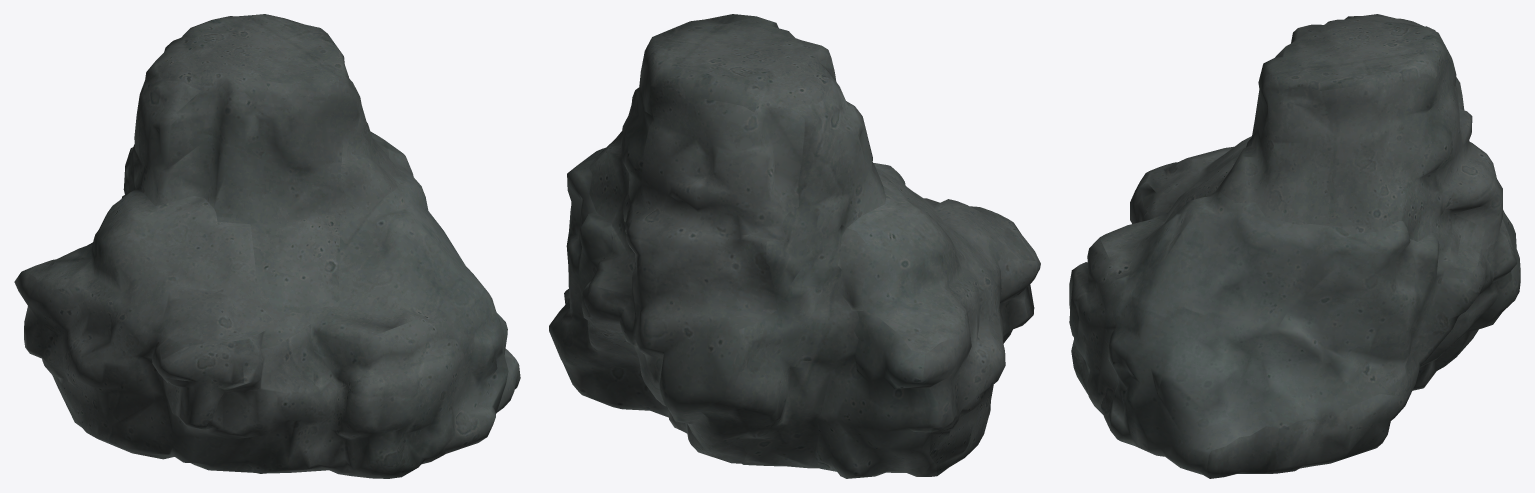
File: Cliff_Glitter02.fbx
The picture shows the model from 3 angles, left to right: view 1: azimuth 30°, elevation 25°; view 2: azimuth 150°, elevation 25°; view 3: azimuth 270°, elevation 25°; orthographic projection. The views are drawn at different scales.
Visible parts, largest first — view 1: SM_Cliff_Rock_Glitter_2.mo; view 2: SM_Cliff_Rock_Glitter_2.mo; view 3: SM_Cliff_Rock_Glitter_2.mo.
Boxes of the visible parts, box(x1,y1,x2,y2) form: SM_Cliff_Rock_Glitter_2.mo: box(14, 14, 520, 478); SM_Cliff_Rock_Glitter_2.mo: box(549, 14, 1040, 478); SM_Cliff_Rock_Glitter_2.mo: box(1069, 14, 1520, 478).
Size of the model in its own units: 1506 by 1222 by 1428.
